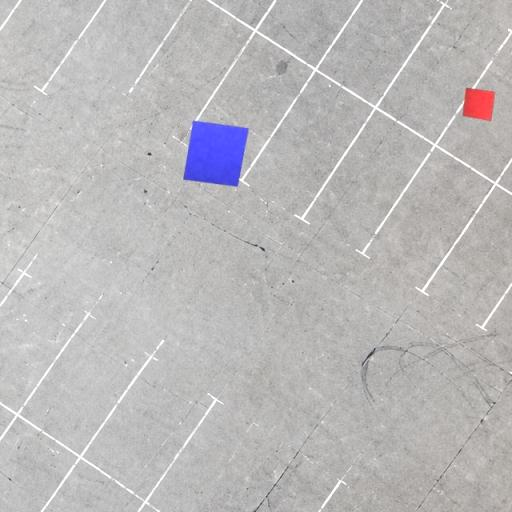BLUE_SQUARE: (182, 120, 250, 187)
RED_SQUARE: (462, 87, 496, 122)
